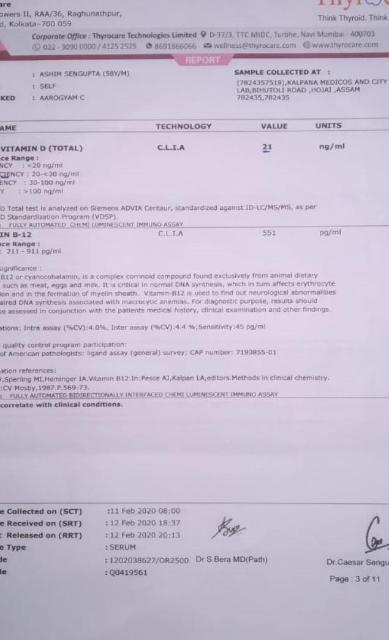Name: (39, 69, 131, 79)
Ref_By: (38, 82, 60, 90)
Technology: (155, 141, 193, 154), (158, 228, 190, 243)
Test_Asked: (39, 94, 87, 102)
Test_Name: (0, 141, 90, 203)
Unit: (318, 140, 352, 154), (318, 226, 347, 240)
Value: (261, 228, 285, 241), (262, 141, 279, 155)
